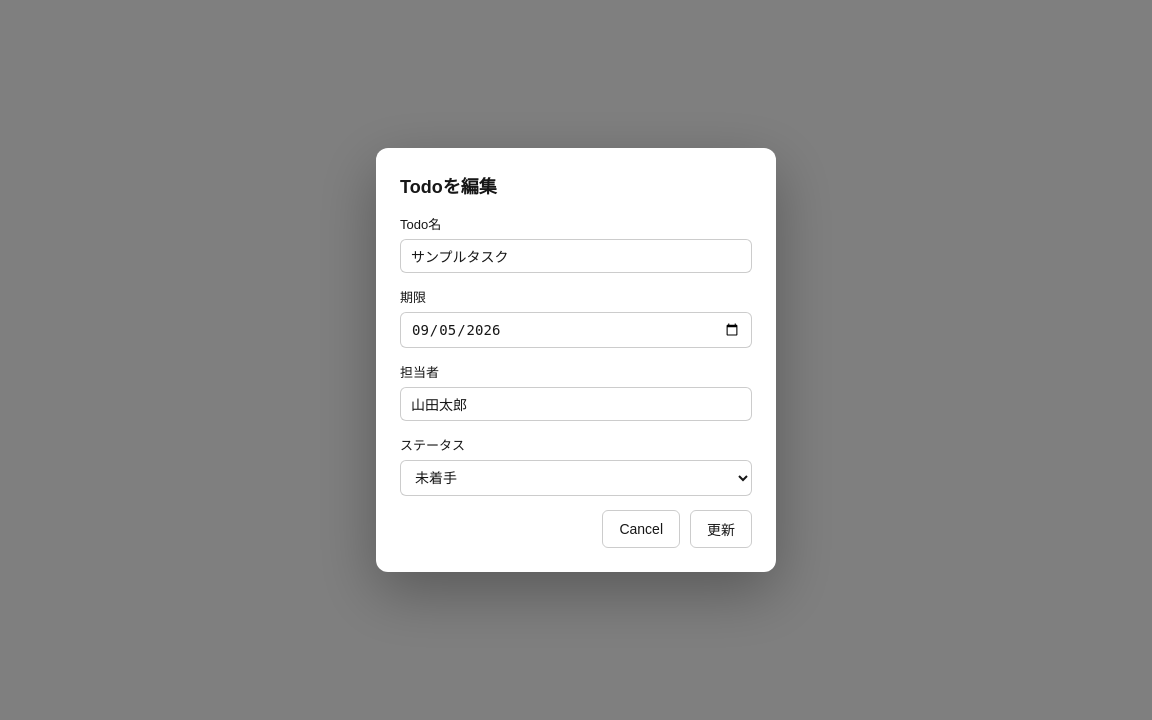
Scenario: TodoEditModal › re-enables Cancel/更新 after a failed update
Click the button "更新".
click(721, 529)  # box [690,510,752,548]
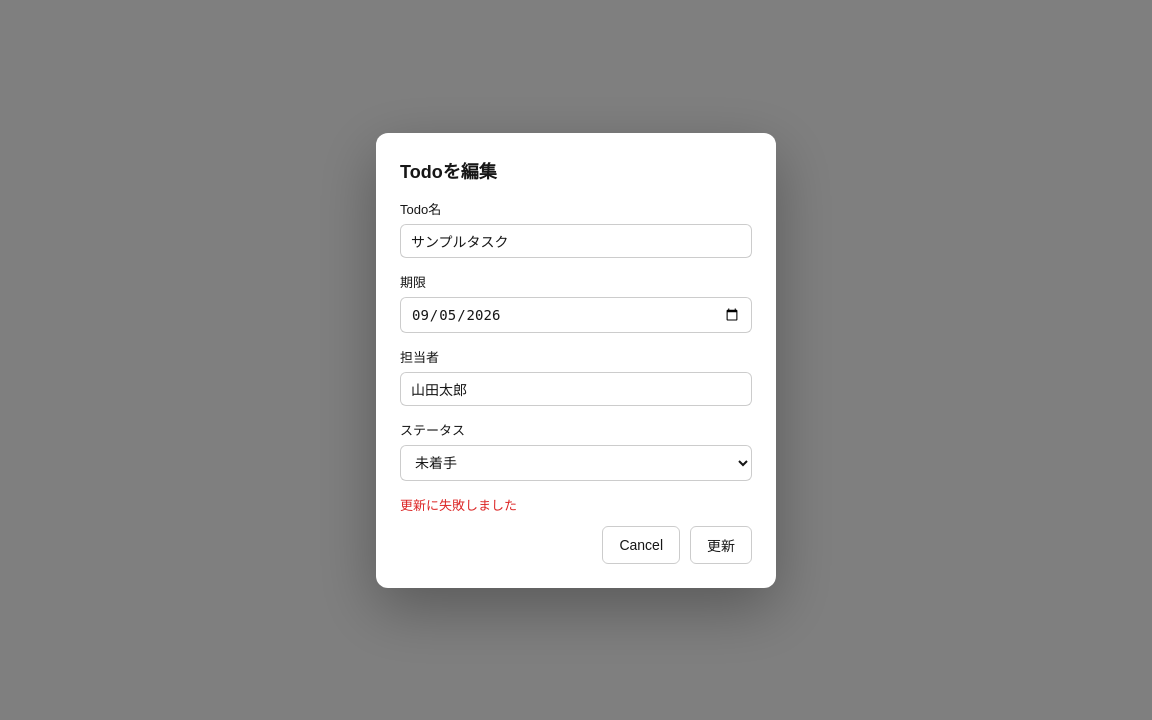
Check: the button "更新" is enabled, box [690,526,752,564]
Check: the text "更新に失敗しました" is shown, box [400,498,517,512]
